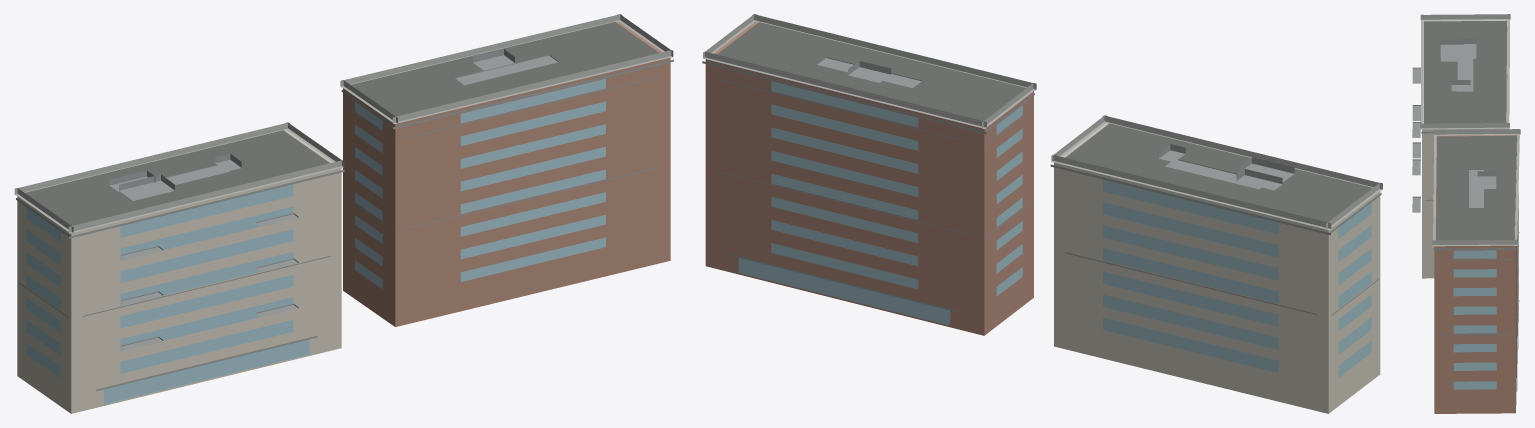
File: tile-m002-m004.glb
The picture shows the model from 3 angles, left to right: view 1: azimuth 30°, elevation 25°; view 2: azimuth 150°, elevation 25°; view 3: azimuth 270°, elevation 25°; orthographic projection. The views are drawn at different scales.
Parts seen in each view (by area): view 1: building-0387-mesh-7, building-0324-mesh-0, building-0324-mesh-1, building-0387-mesh-8, building-0387-mesh-10, building-0324-mesh-4, building-0387-mesh-11, building-0324-mesh-5, building-0324-mesh-6, building-0324-mesh-2, building-0387-mesh-9, building-0387-mesh-12 (+1 smaller); view 2: building-0387-mesh-7, building-0324-mesh-0, building-0324-mesh-1, building-0387-mesh-8, building-0387-mesh-10, building-0324-mesh-4, building-0387-mesh-11, building-0324-mesh-5, building-0387-mesh-9, building-0324-mesh-6, building-0324-mesh-2, building-0387-mesh-12; view 3: building-0387-mesh-7, building-0387-mesh-10, building-0324-mesh-4, building-0387-mesh-8, building-0324-mesh-0, building-0324-mesh-5, building-0387-mesh-11, building-0324-mesh-6, building-0324-mesh-3, building-0387-mesh-12, building-0387-mesh-9.
Boxes of the visible parts, bbox=[...] form: building-0387-mesh-7: bbox=[343, 22, 670, 326]; building-0324-mesh-0: bbox=[17, 130, 341, 413]; building-0324-mesh-1: bbox=[26, 184, 309, 404]; building-0387-mesh-8: bbox=[355, 79, 605, 288]; building-0387-mesh-10: bbox=[351, 22, 658, 116]; building-0324-mesh-4: bbox=[25, 130, 329, 225]; building-0387-mesh-11: bbox=[340, 14, 673, 124]; building-0324-mesh-5: bbox=[14, 122, 344, 233]; building-0324-mesh-6: bbox=[109, 153, 241, 200]; building-0324-mesh-2: bbox=[16, 169, 344, 391]; building-0387-mesh-9: bbox=[341, 59, 673, 229]; building-0387-mesh-12: bbox=[455, 49, 558, 85]; building-0387-mesh-7: bbox=[705, 22, 1033, 335]; building-0324-mesh-0: bbox=[1054, 123, 1380, 413]; building-0324-mesh-1: bbox=[1103, 179, 1371, 377]; building-0387-mesh-8: bbox=[738, 81, 1022, 325]; building-0387-mesh-10: bbox=[717, 22, 1026, 120]; building-0324-mesh-4: bbox=[1065, 123, 1372, 222]; building-0387-mesh-11: bbox=[703, 14, 1036, 128]; building-0324-mesh-5: bbox=[1051, 115, 1382, 230]; building-0387-mesh-9: bbox=[702, 61, 1034, 312]; building-0324-mesh-6: bbox=[1158, 144, 1294, 190]; building-0324-mesh-2: bbox=[1050, 164, 1381, 315]; building-0387-mesh-12: bbox=[817, 57, 921, 88]; building-0387-mesh-7: bbox=[1434, 135, 1518, 413]; building-0387-mesh-10: bbox=[1436, 135, 1516, 240]; building-0324-mesh-4: bbox=[1424, 20, 1506, 123]; building-0387-mesh-8: bbox=[1453, 203, 1518, 390]; building-0324-mesh-0: bbox=[1422, 20, 1508, 278]; building-0324-mesh-5: bbox=[1420, 14, 1510, 129]; building-0387-mesh-11: bbox=[1432, 129, 1520, 246]; building-0324-mesh-6: bbox=[1440, 39, 1476, 91]; building-0324-mesh-3: bbox=[1412, 67, 1420, 212]; building-0387-mesh-12: bbox=[1469, 169, 1496, 207]; building-0387-mesh-9: bbox=[1433, 232, 1519, 384].
Size of the model in its own units: 94.92 by 31.9 by 17.54.
